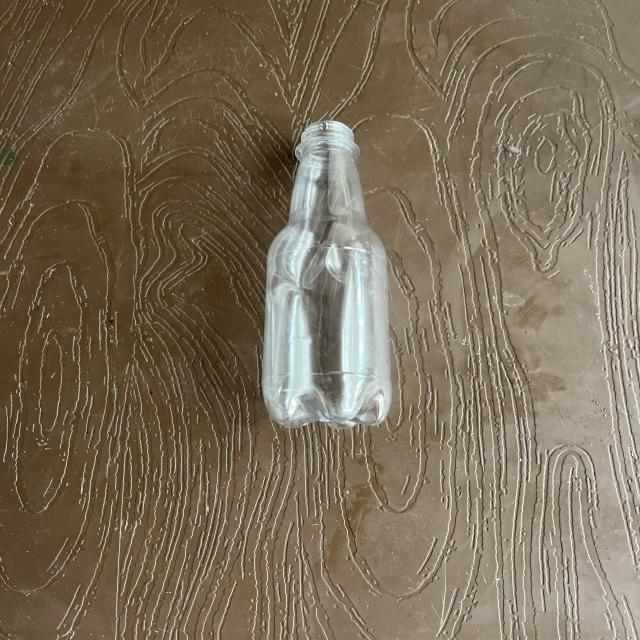PET_ClearBottle: (246, 127, 404, 635)
